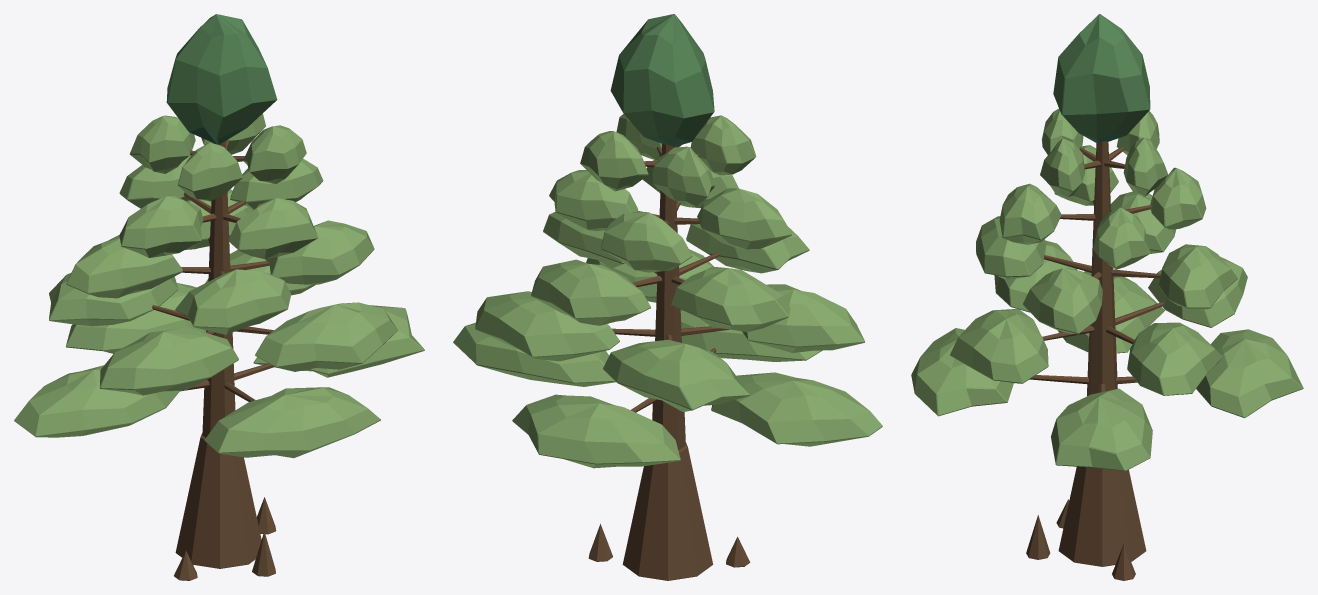
The model's file is b08_bald_cypress.glb.
3 views of the same model, side by side, from view 1: azimuth 30°, elevation 25°; view 2: azimuth 150°, elevation 25°; view 3: azimuth 270°, elevation 25° (orthographic). The views are drawn at different scales.
Parts seen in each view (by area): view 1: b08_bald_cypress; view 2: b08_bald_cypress; view 3: b08_bald_cypress.
Boxes of the visible parts, x1,y1,x2,y2 form: b08_bald_cypress: (14, 14, 424, 580); b08_bald_cypress: (453, 14, 882, 580); b08_bald_cypress: (911, 14, 1303, 580).
Size of the model in its own units: 4.7 by 6.04 by 4.03.
